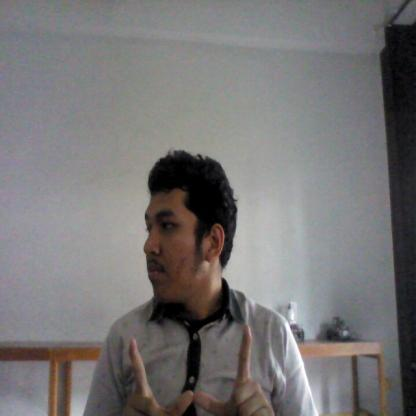W: (122, 323, 278, 416)
